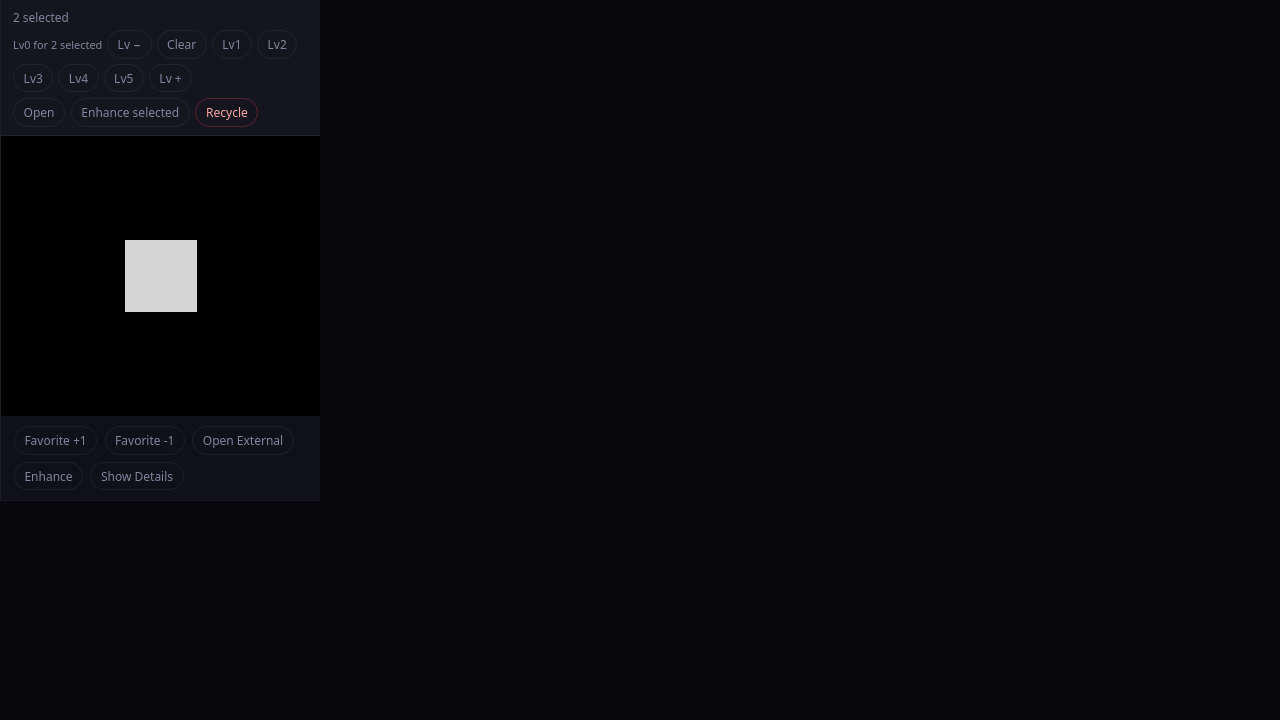
Test: RightPreviewPanel bulk recycle › keeps failed image ids selected for retry after a partial recycle
Click the button "Recycle": (227, 112) top-left (195, 98), bottom-right (258, 127)
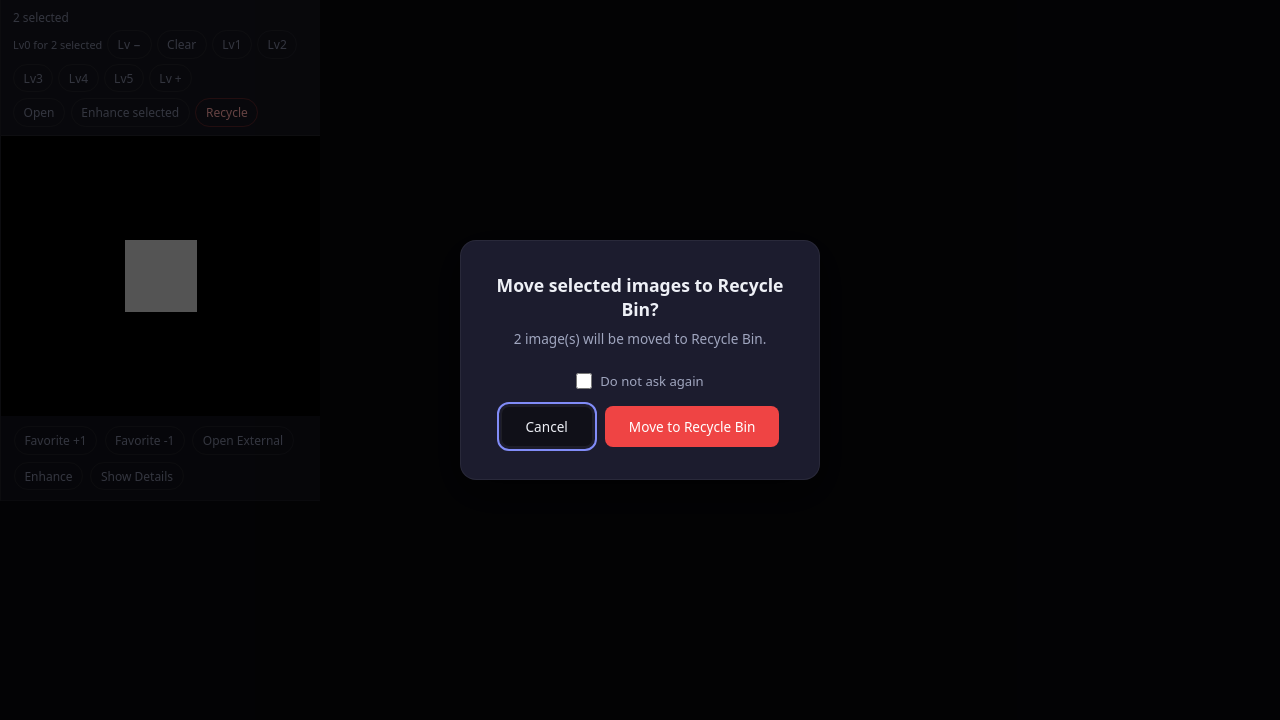
Click the button "Move to Recycle Bin": (692, 426) top-left (605, 406), bottom-right (779, 447)
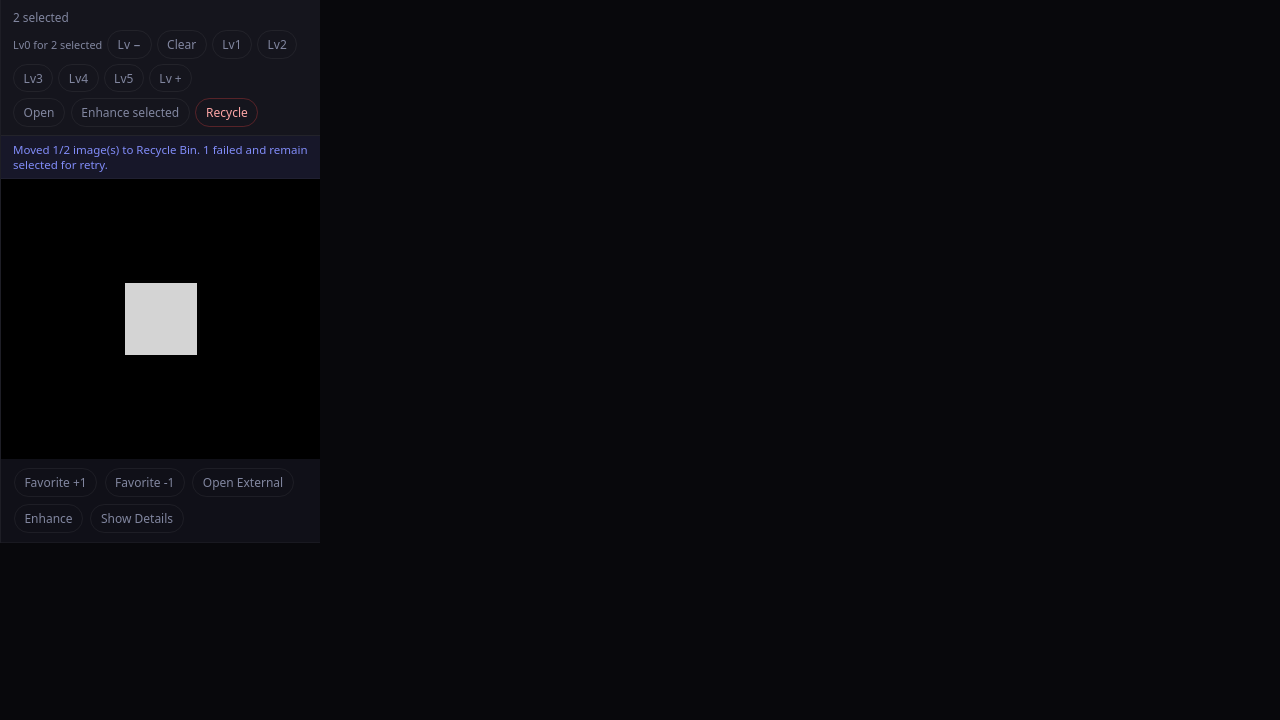
Now the text "Moved 1/2 image(s) to Recycle Bin. 1 failed and remain selected for retry." is shown, box top-left (1, 136), bottom-right (320, 179)
